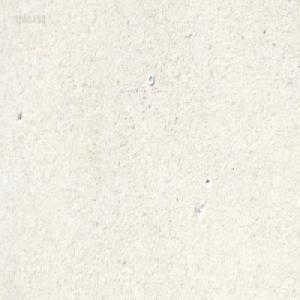Washer: (147, 72, 154, 84)
